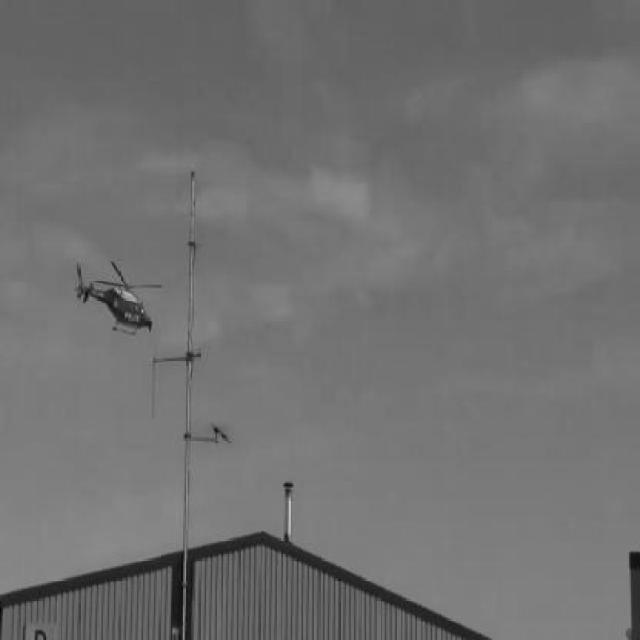helikopter: (74, 260, 162, 336)
